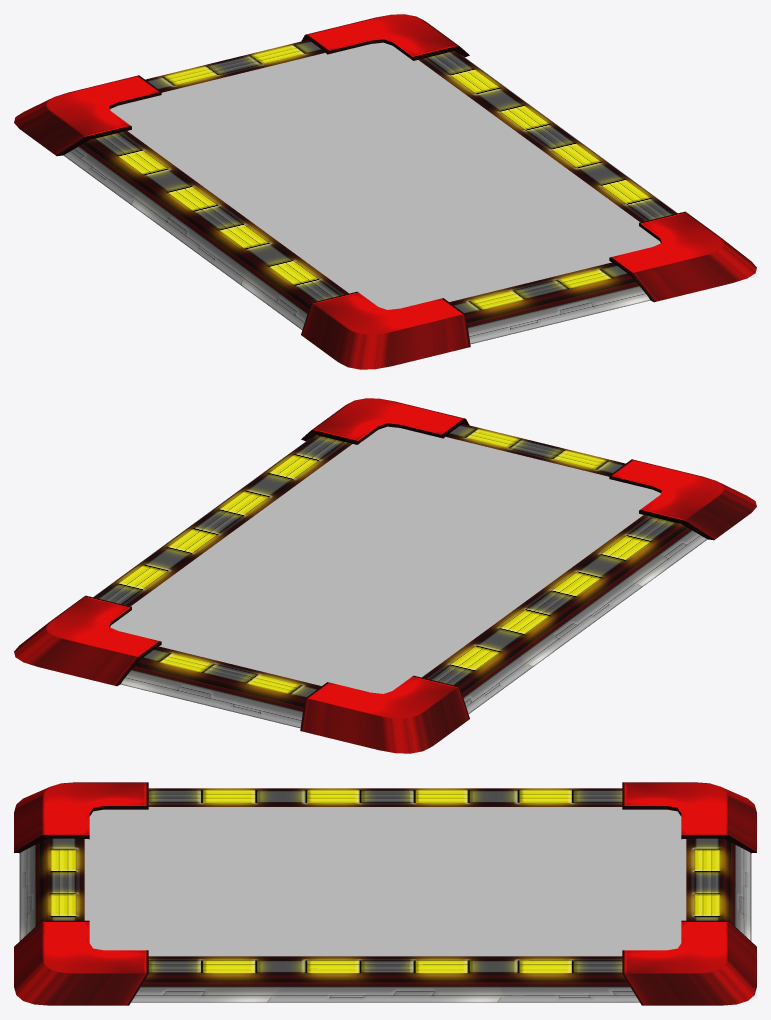
File: footing.FBX
3 views of the same model, one above another, from view 1: azimuth 30°, elevation 25°; view 2: azimuth 150°, elevation 25°; view 3: azimuth 270°, elevation 25° (orthographic). The views are drawn at different scales.
Parts seen in each view (by area): view 1: footing, footingpan; view 2: footing, footingpan; view 3: footing, footingpan.
Part boxes in pixels (x1,y1,x2,y2): footing: (110,42,660,309); footingpan: (14,14,756,369); footing: (110,426,660,693); footingpan: (14,398,756,753); footing: (84,807,686,956); footingpan: (14,782,756,1005).
Size of the model in its own units: 0.4953 by 0.0236 by 0.7342.
